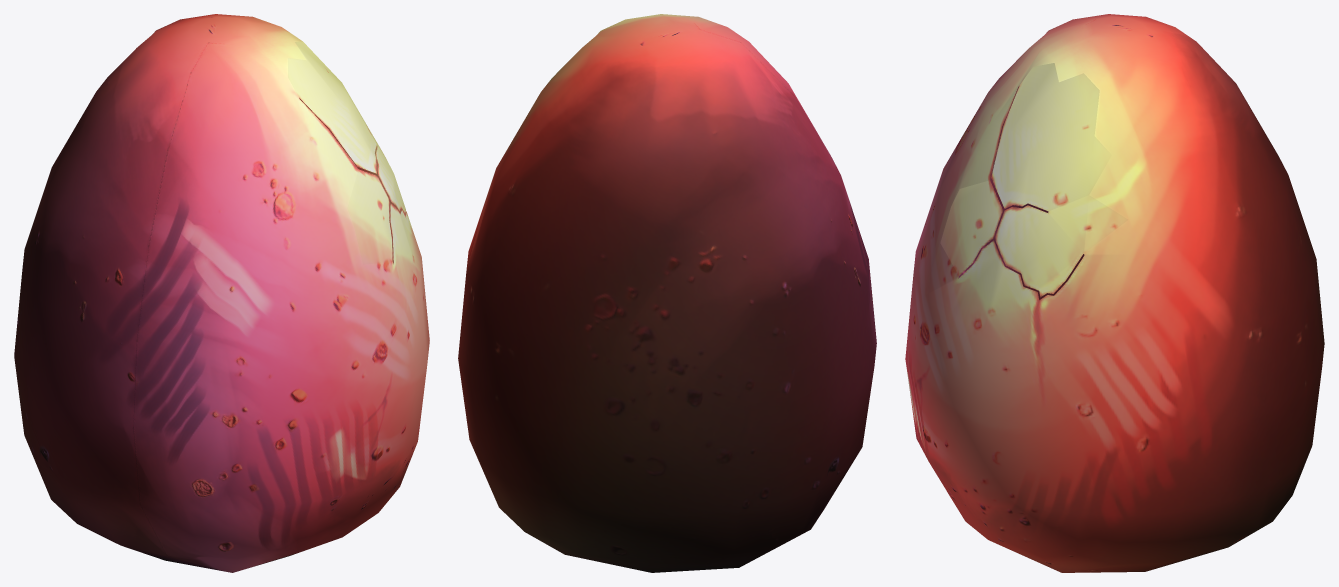
Rendered from egg.glb.
The picture shows the model from 3 angles, left to right: view 1: azimuth 30°, elevation 25°; view 2: azimuth 150°, elevation 25°; view 3: azimuth 270°, elevation 25°; orthographic projection.
Parts seen in each view (by area): view 1: yaika; view 2: yaika; view 3: yaika.
Boxes of the visible parts, <box> form: yaika: <box>14,14,429,572</box>; yaika: <box>458,14,876,572</box>; yaika: <box>905,14,1324,572</box>.
Bounding box in the file's own units: 0.9658 × 1.32 × 0.9658.
Materials: 1 (1 with a texture image).
